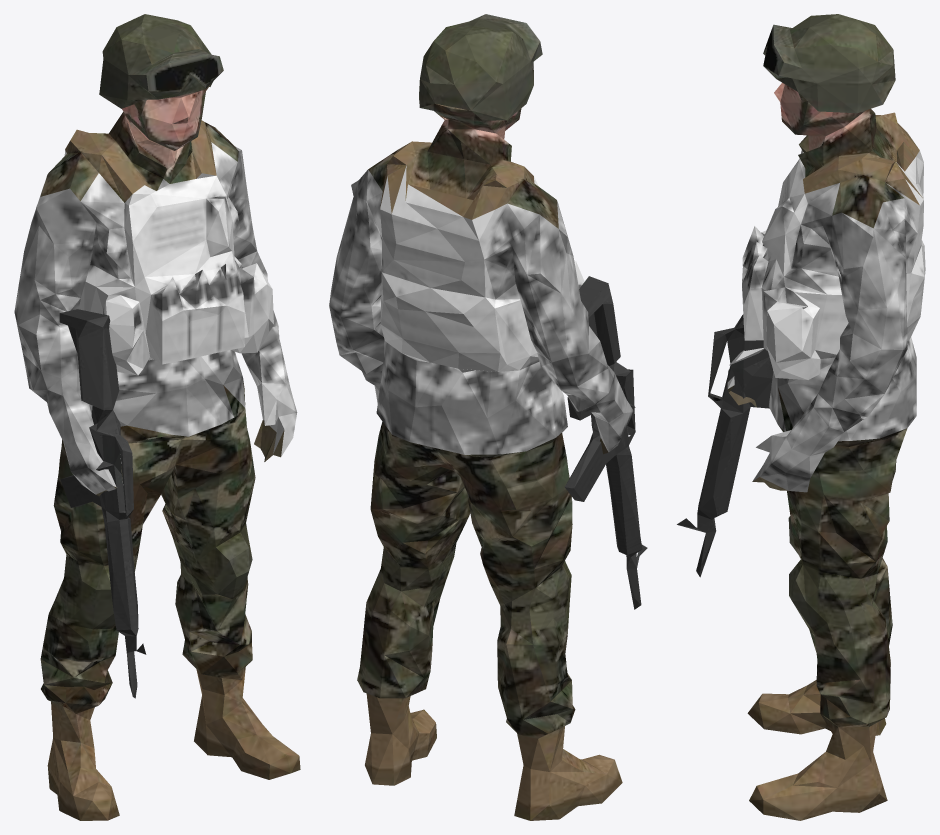
File: realistic-cc0.a8769808caef.marine.glb
3 renders of one model, left to right at view 1: azimuth 30°, elevation 25°; view 2: azimuth 150°, elevation 25°; view 3: azimuth 270°, elevation 25°, orthographic.
Visible parts, largest first — view 1: marine; view 2: marine; view 3: marine.
Boxes of the visible parts, left/top/right/bottom form: marine: left=14, top=14, right=300, bottom=820; marine: left=329, top=14, right=647, bottom=820; marine: left=677, top=14, right=925, bottom=820.
Bounding box in the file's own units: 0.625 × 1.8 × 0.5439.
Materials: 3 (3 with a texture image).
